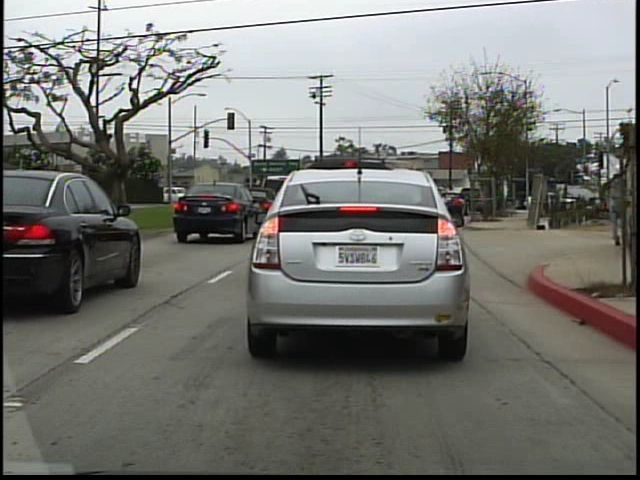person: (605, 159, 627, 247)
